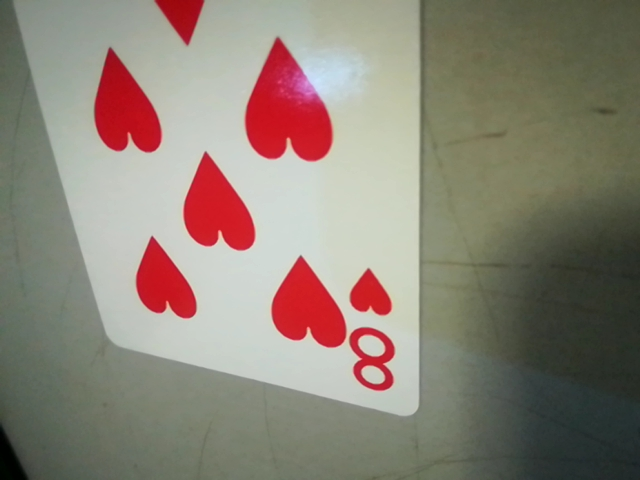hx 8: (339, 263, 414, 399)
